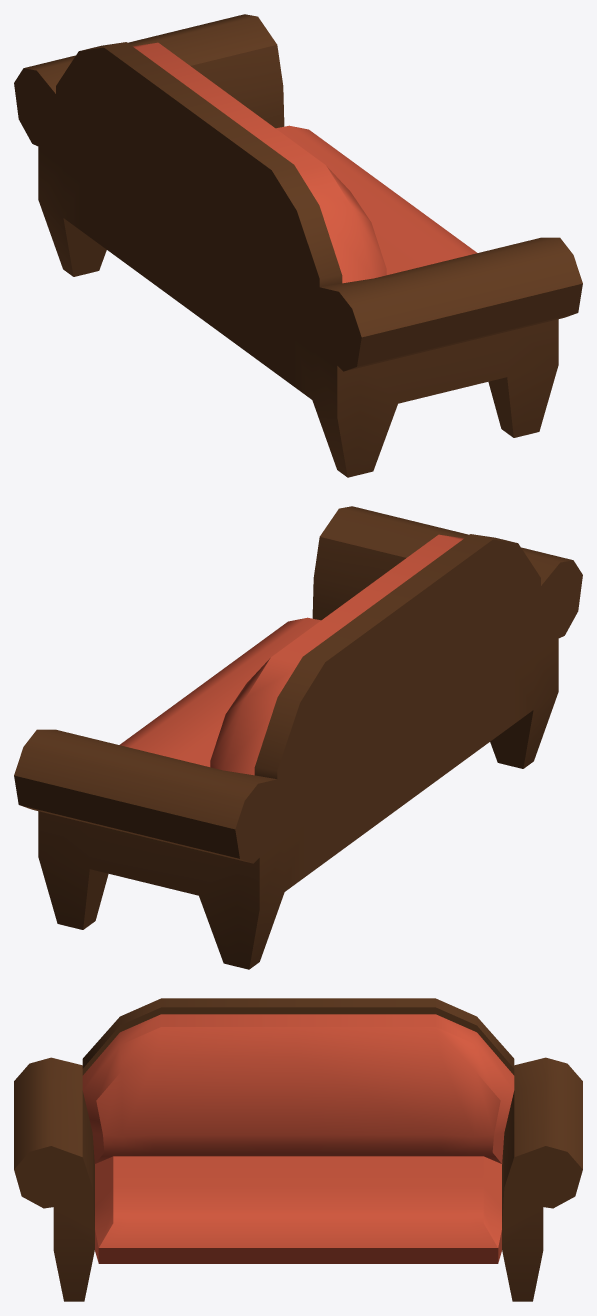
Rendered from couch.fbx.
3 renders of one model, top to bottom at view 1: azimuth 30°, elevation 25°; view 2: azimuth 150°, elevation 25°; view 3: azimuth 270°, elevation 25°, orthographic. The views are drawn at different scales.
Parts seen in each view (by area): view 1: Cube; view 2: Cube; view 3: Cube.
Boxes of the visible parts, x1,y1,x2,y2 form: Cube: (14,14,582,477); Cube: (14,506,582,969); Cube: (14,998,582,1301).
Size of the model in its own units: 179 by 187 by 438.
